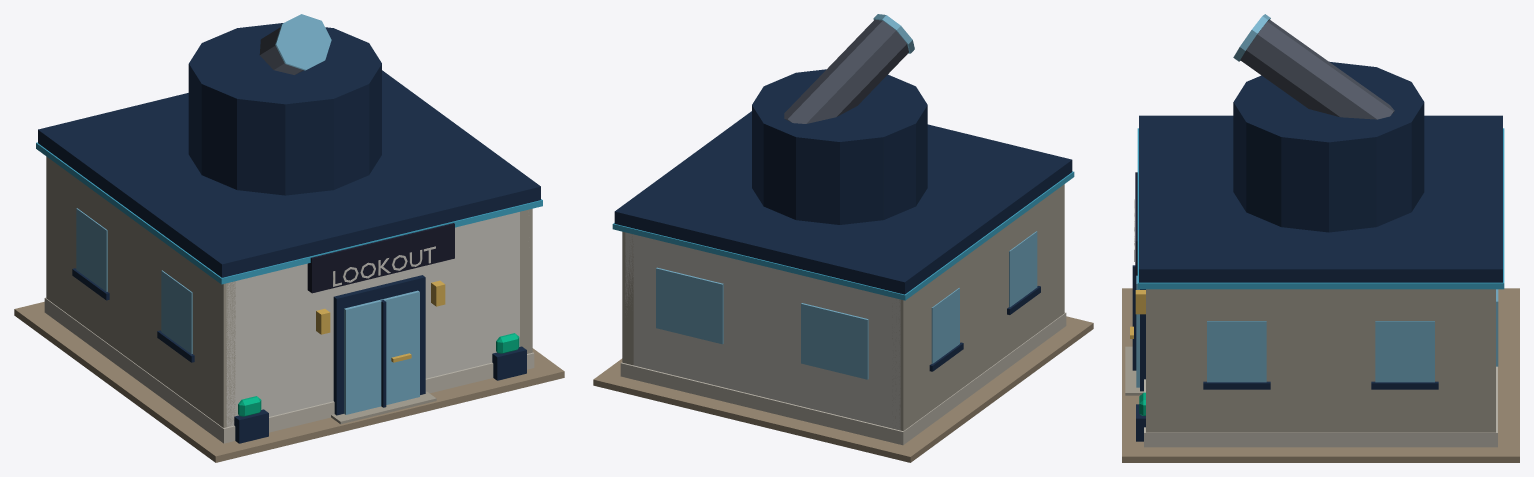
File: observatory-D_FeYTFm.glb
3 views of the same model, side by side, from view 1: azimuth 30°, elevation 25°; view 2: azimuth 150°, elevation 25°; view 3: azimuth 270°, elevation 25° (orthographic). The views are drawn at different scales.
Parts seen in each view (by area): view 1: Architecture; view 2: Architecture; view 3: Architecture.
Boxes of the visible parts, left/top/right/bottom form: Architecture: left=14, top=14, right=564, bottom=462; Architecture: left=593, top=14, right=1093, bottom=462; Architecture: left=1122, top=14, right=1519, bottom=462.
Size of the model in its own units: 10 by 9.83 by 10.
